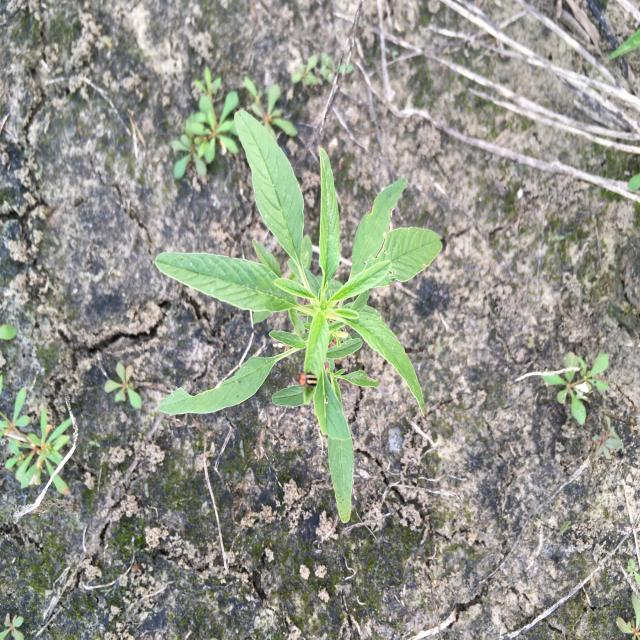Carpetweed: (166, 70, 300, 180), (0, 385, 75, 503), (538, 342, 612, 431), (104, 360, 144, 418)
Waterhemp: (151, 107, 444, 526)
